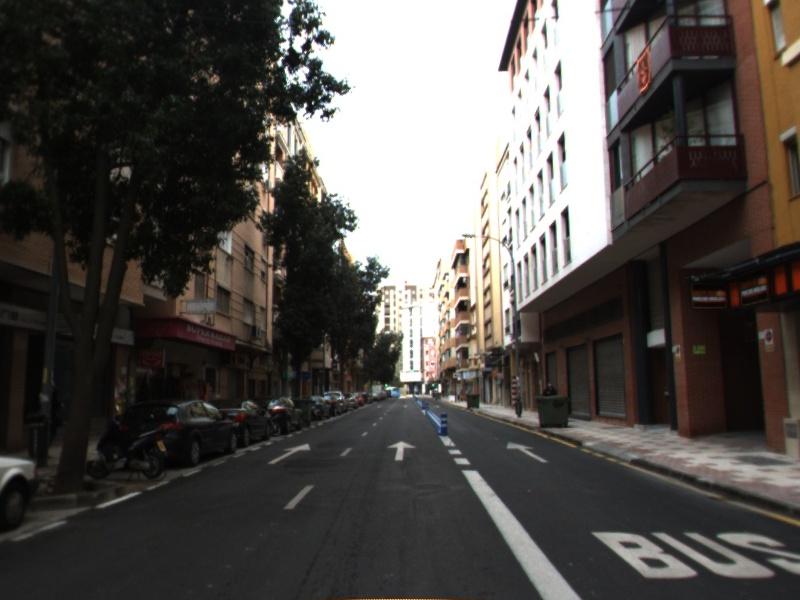STRAIGHT: (504, 440, 551, 464), (265, 442, 312, 466), (385, 439, 419, 462)
